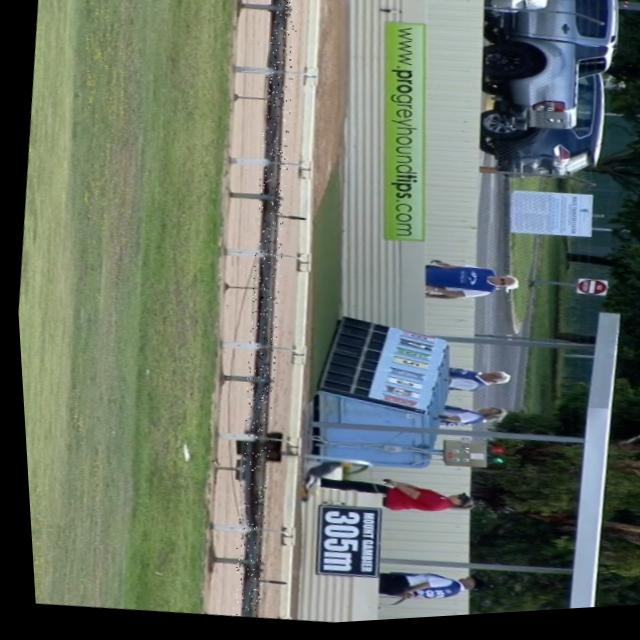rail: (230, 0, 287, 620)
